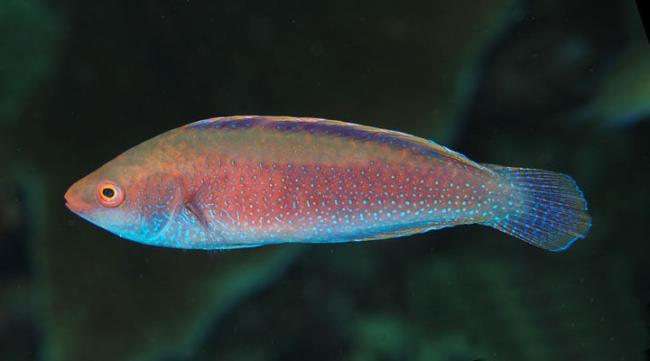fish: (64, 113, 593, 252)
